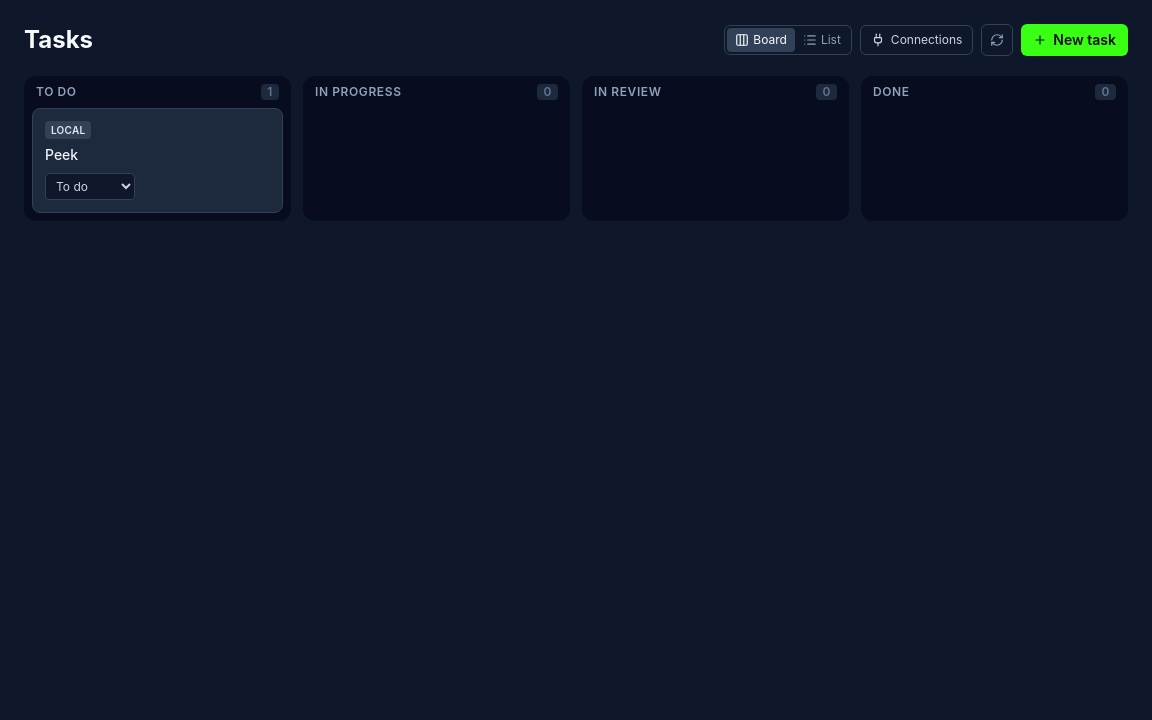
TasksView › closes the side panel with Escape
Click the button "Peek" at (158, 155), box [45,145,270,165]
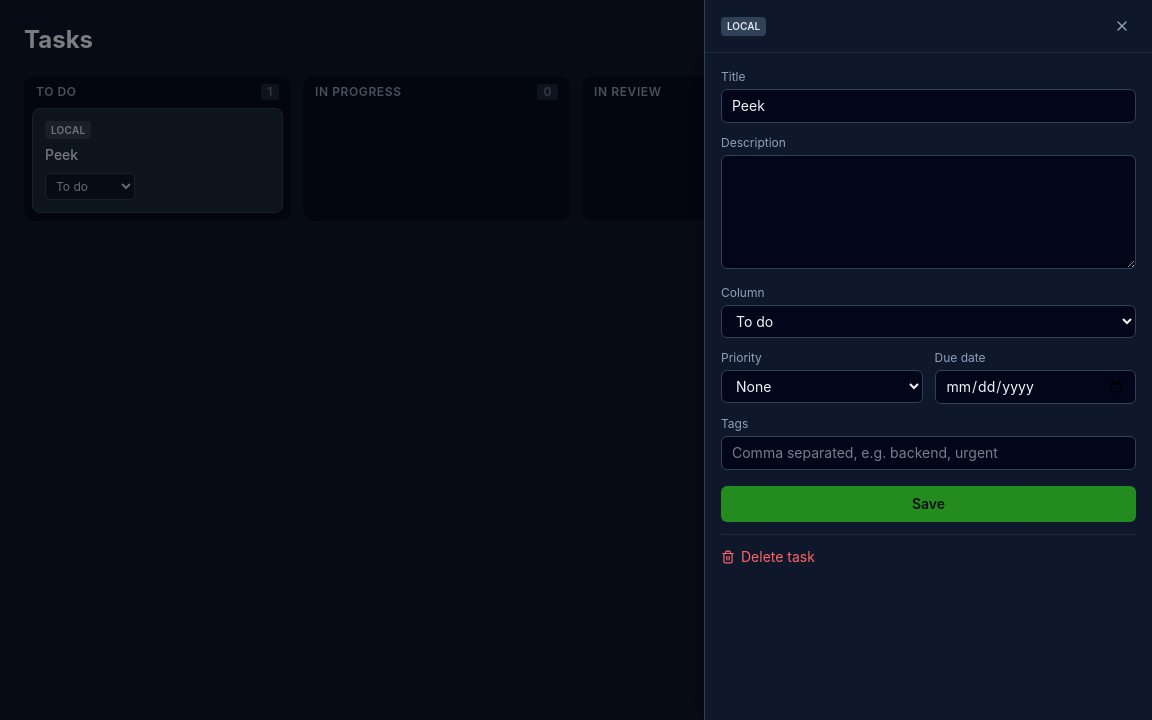
Press Escape in the dialog, box [704,0,1151,719]
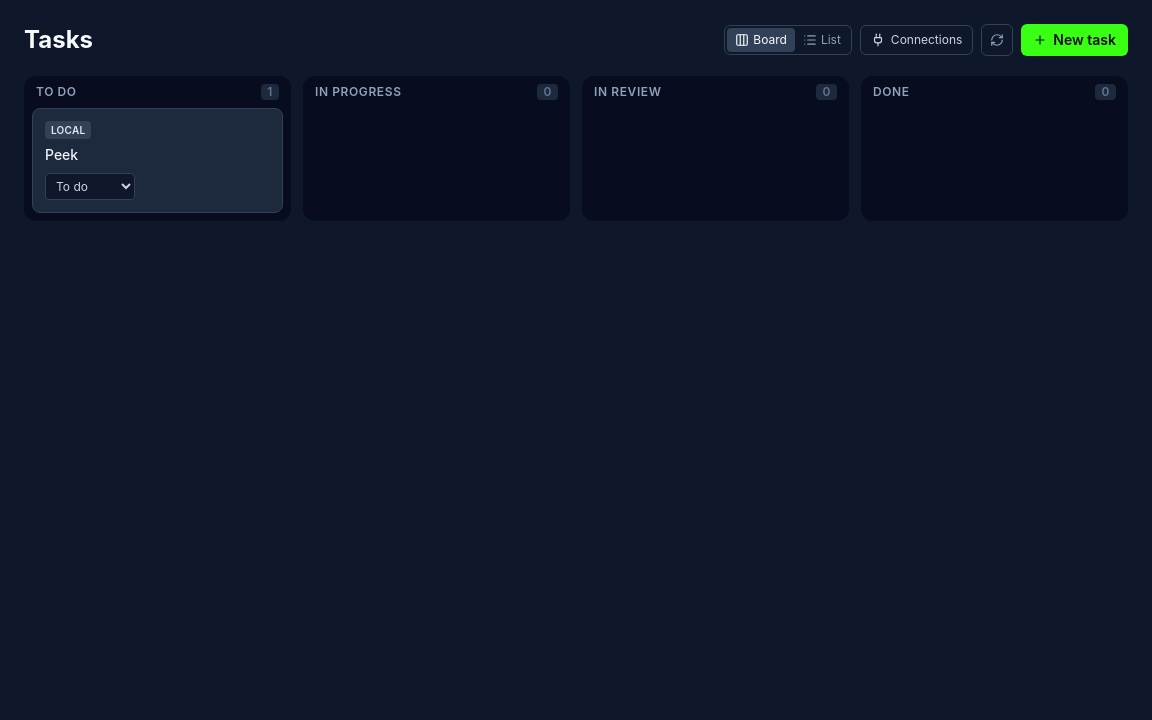
Result: the dialog is gone
